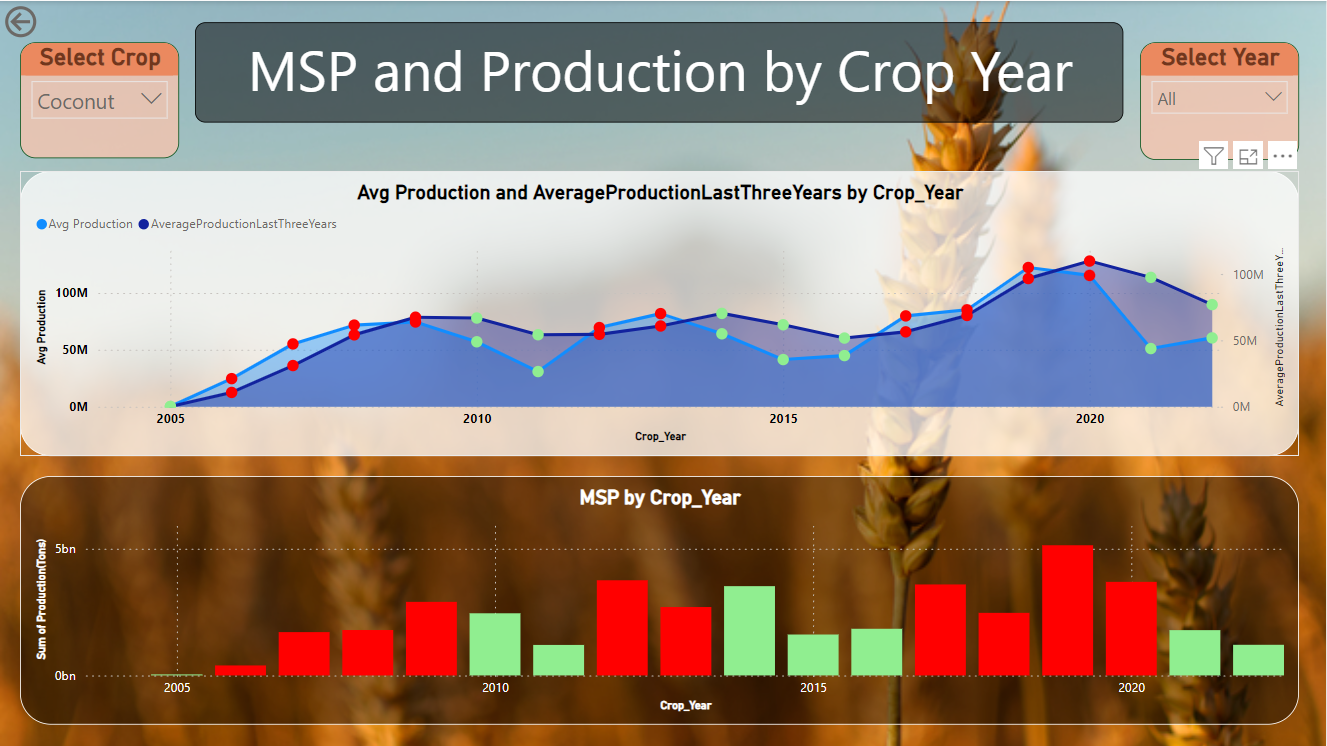

This screenshot's page, from the dashboard's own definition file:
{"tool":"powerbi","page":{"name":"MSP and Production","canvas":[1280,720],"ordinal":3},"visuals":[{"type":"textbox","box":[188.2,20.5,896.4,96.5],"z":0},{"type":"slicer","title":"Select Crop","fields":{"Values":["apy_1.Crop"]},"box":[19.3,39.8,153.2,112.2],"z":1000},{"type":"slicer","title":"Select Year","fields":{"Values":["apy_1.Crop_Year"]},"box":[1100.3,39.8,153.2,113.4],"z":2000},{"type":"columnChart","title":"MSP by Crop_Year","fields":{"Category":["apy_1.Crop_Year"],"Y":["Sum(apy_1.Production(Tons))"]},"box":[19.3,458.4,1234.2,240.1],"z":3000},{"type":"actionButton","box":[0,0,100,40],"z":4000},{"type":"areaChart","fields":{"Category":["apy_1.Crop_Year"],"Y2":["apy_1.AverageProductionLastThreeYears"],"Y":["apy_1.Avg Production"]},"box":[19.3,164.1,1234.2,275.1],"z":5000}]}

Visuals, with their boxes in screenshot pixels (x1, y1, x2, y2), scaled from the page's 1280x720 canvas onto the 1327x746 screenshot:
textbox: 195, 21, 1124, 121
"Select Crop" slicer: 20, 41, 179, 157
"Select Year" slicer: 1141, 41, 1300, 159
"MSP by Crop_Year" columnChart: 20, 475, 1300, 724
actionButton: 0, 0, 104, 41
areaChart - apy_1.Crop_Year x apy_1.AverageProductionLastThreeYears: 20, 170, 1300, 455
